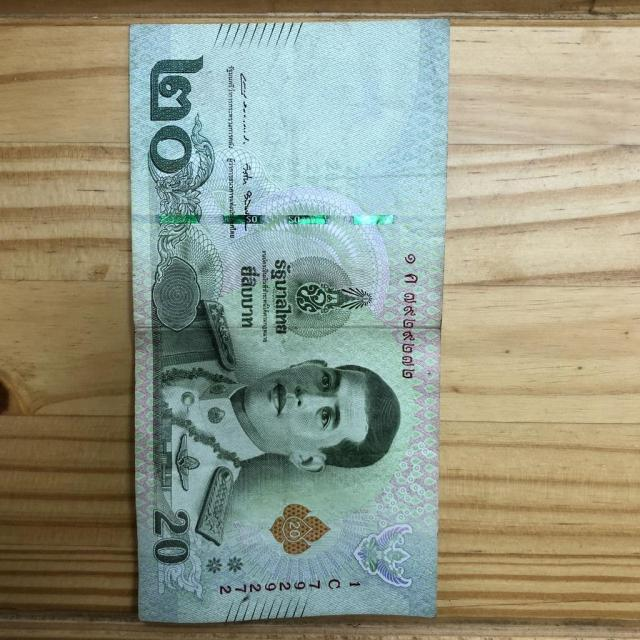THAI20: (128, 18, 451, 626)
